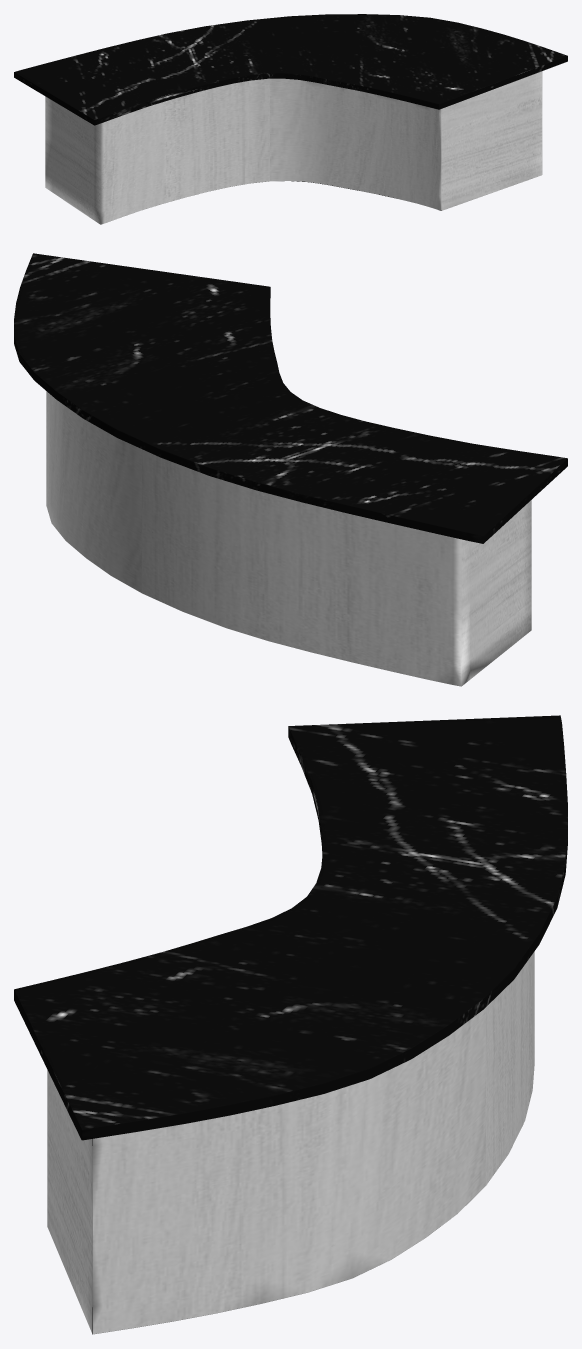
File: officeDeskCurved.dae
3 renders of one model, top to bottom at view 1: azimuth 30°, elevation 25°; view 2: azimuth 150°, elevation 25°; view 3: azimuth 270°, elevation 25°, orthographic. The views are drawn at different scales.
Parts seen in each view (by area): view 1: Reception_table; view 2: Reception_table; view 3: Reception_table.
Boxes of the visible parts, box(x1,y1,x2,y2) form: Reception_table: box(14, 14, 567, 224); Reception_table: box(14, 253, 567, 686); Reception_table: box(14, 715, 567, 1334).
Size of the model in its own units: 3.51 by 1.99 by 0.9001.
